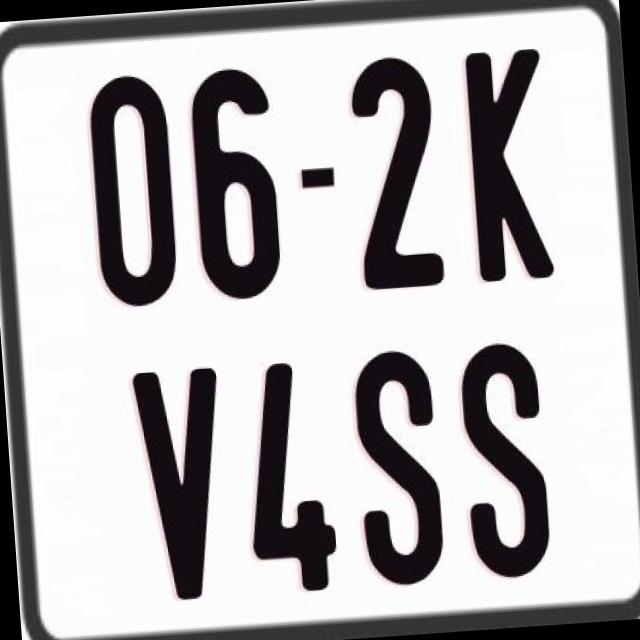0: (86, 68, 185, 304)
2: (346, 51, 446, 292)
4: (240, 358, 346, 594)
6: (184, 62, 284, 299)
K: (464, 44, 556, 284)
S: (351, 347, 452, 584), (458, 338, 556, 578)
V: (127, 364, 230, 606)
